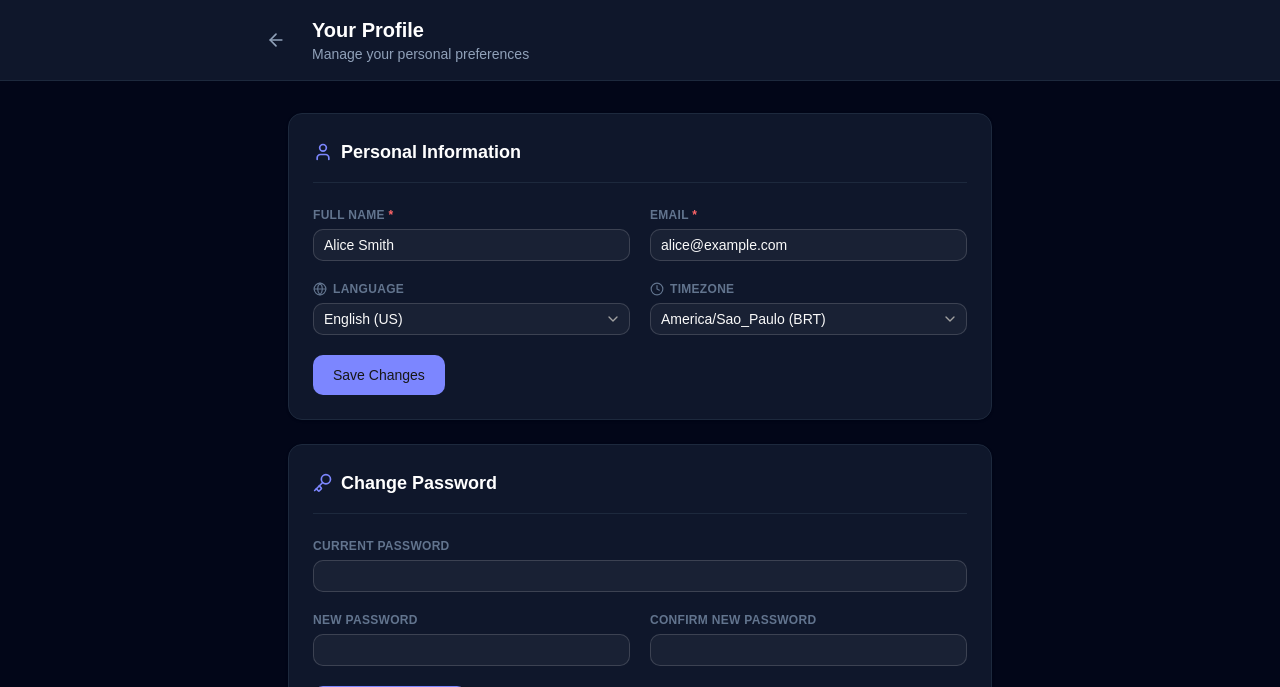
Scenario: ProfileRoute — save profile › shows an error when updateMe rejects
What coordinates should you click on to do the following:
click the button "Save Changes"
I would click on:
 (379, 375)
Its box is [313,355,445,395].
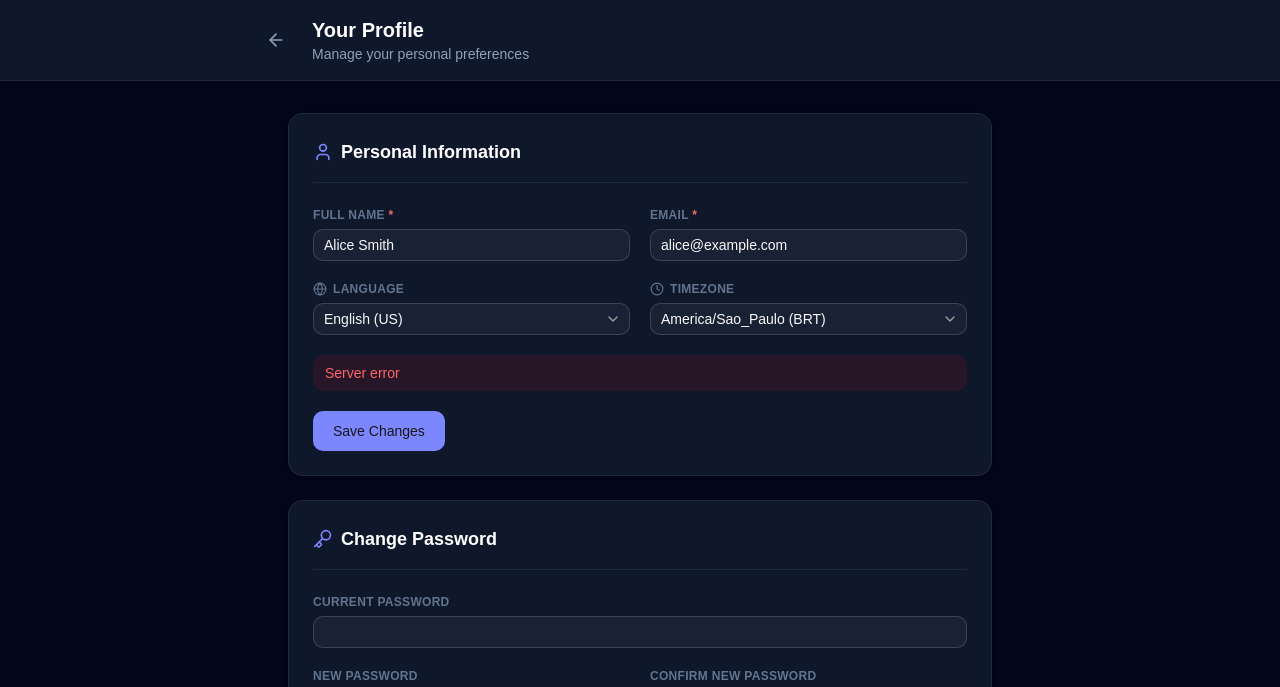
Result: the message reads "Server error" at [325,365,400,381]
